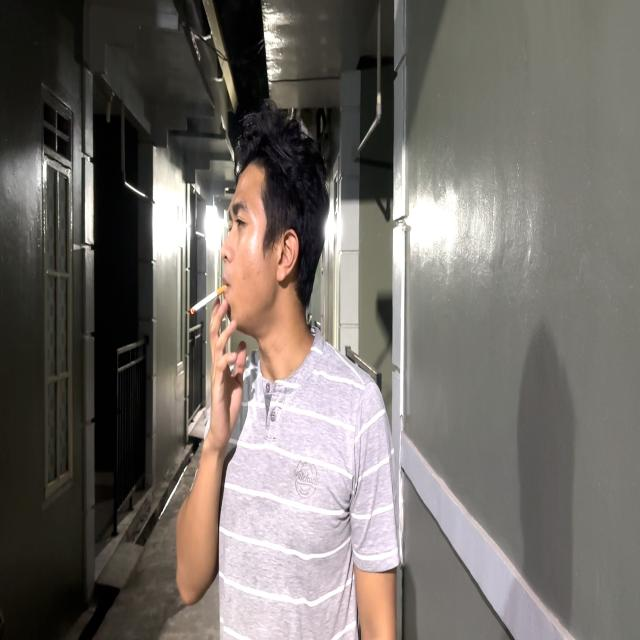cigarette: (189, 281, 228, 319)
smoking: (174, 93, 332, 611)
